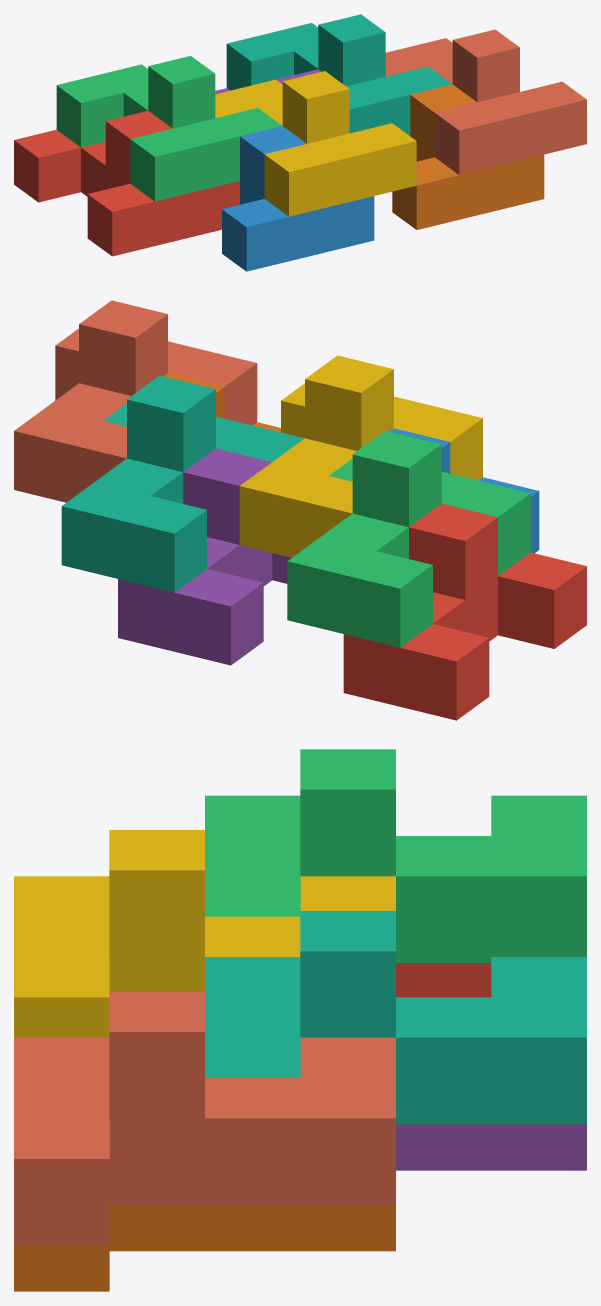
Rendered from tiling.obj.
The picture shows the model from 3 angles, top to bottom: view 1: azimuth 30°, elevation 25°; view 2: azimuth 150°, elevation 25°; view 3: azimuth 270°, elevation 25°; orthographic projection. The views are drawn at different scales.
Visible parts, largest first — view 1: copy_1_domain_3, copy_1_domain_4, copy_1_domain_8, copy_1_domain_1, copy_1_domain_7, copy_1_domain_2, copy_1_domain_6; view 2: copy_1_domain_1, copy_1_domain_3, copy_1_domain_7, copy_1_domain_8, copy_1_domain_4, copy_1_domain_5, copy_1_domain_2, copy_1_domain_6; view 3: copy_1_domain_8, copy_1_domain_7, copy_1_domain_3, copy_1_domain_4, copy_1_domain_6, copy_1_domain_5, copy_1_domain_1.
Part boxes in pixels (x1,y1,x2,y2): copy_1_domain_3: (56, 56, 281, 201); copy_1_domain_4: (215, 71, 416, 216); copy_1_domain_8: (385, 29, 586, 174); copy_1_domain_1: (14, 111, 239, 256); copy_1_domain_7: (226, 14, 452, 135); copy_1_domain_2: (222, 126, 374, 271); copy_1_domain_6: (392, 84, 544, 229); copy_1_domain_1: (343, 503, 586, 720); copy_1_domain_3: (287, 430, 530, 647); copy_1_domain_7: (61, 375, 304, 592); copy_1_domain_8: (14, 300, 257, 502); copy_1_domain_4: (239, 355, 482, 557); copy_1_domain_5: (118, 448, 291, 665); copy_1_domain_2: (389, 428, 539, 553); copy_1_domain_6: (164, 373, 280, 432); copy_1_domain_8: (14, 991, 395, 1245); copy_1_domain_7: (205, 911, 586, 1124); copy_1_domain_3: (205, 749, 586, 962); copy_1_domain_4: (14, 830, 395, 1037); copy_1_domain_6: (14, 1205, 395, 1291); copy_1_domain_5: (396, 1124, 586, 1170); copy_1_domain_1: (396, 963, 491, 997).
Size of the model in its own units: 10 by 3 by 6.
